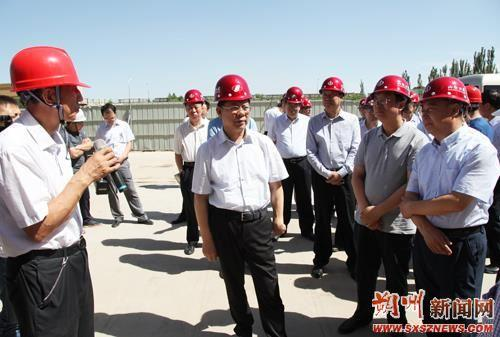boots: (337, 310, 373, 333), (311, 265, 324, 279), (184, 242, 197, 255), (172, 213, 186, 224), (110, 215, 124, 226), (82, 218, 99, 226), (137, 217, 153, 225), (111, 220, 122, 227)
hard-hat: (9, 45, 92, 92), (420, 77, 471, 105), (214, 74, 252, 102), (373, 74, 411, 98), (319, 77, 345, 94), (184, 89, 205, 105), (285, 87, 303, 104), (67, 108, 87, 122), (301, 96, 312, 107)
person: (1, 45, 122, 336), (400, 76, 500, 336), (191, 73, 289, 336), (337, 74, 430, 335), (306, 77, 361, 280), (266, 87, 316, 242), (94, 102, 153, 226), (173, 89, 211, 255), (65, 108, 98, 225)
